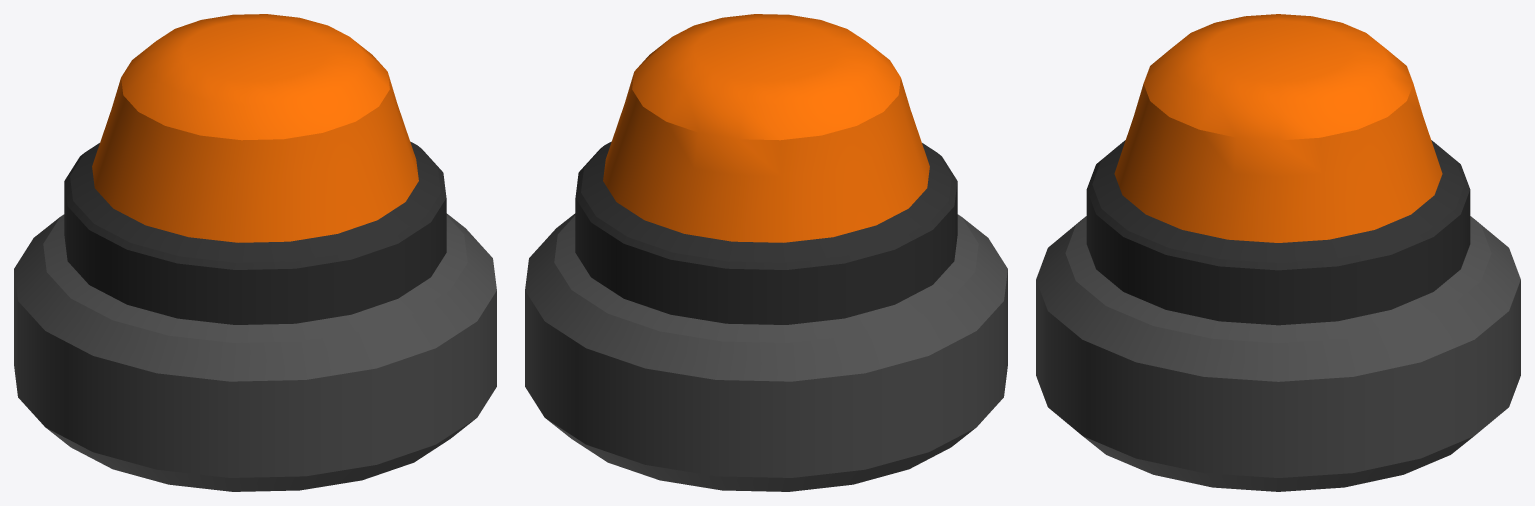
File: SM_LED_orange.fbx
3 views of the same model, side by side, from view 1: azimuth 30°, elevation 25°; view 2: azimuth 150°, elevation 25°; view 3: azimuth 270°, elevation 25° (orthographic).
Parts seen in each view (by area): view 1: pCylinder7; view 2: pCylinder7; view 3: pCylinder7.
Part boxes in pixels (x1,y1,x2,y2): pCylinder7: [14, 14, 496, 491]; pCylinder7: [525, 14, 1007, 491]; pCylinder7: [1036, 14, 1520, 491].
Size of the model in its own units: 0.5123 by 0.4089 by 0.5123.
